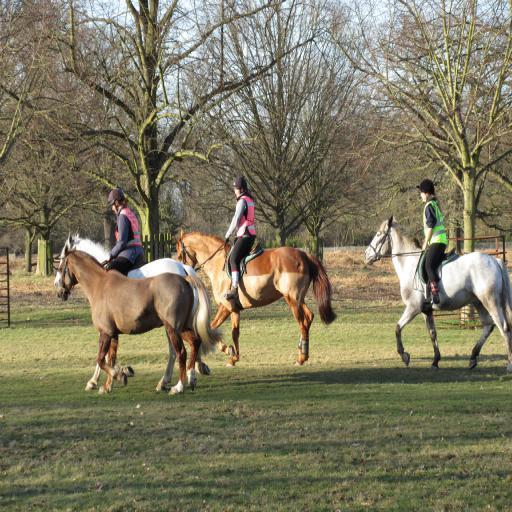horse: (46, 240, 224, 392), (54, 246, 224, 394), (168, 230, 339, 368), (360, 219, 512, 372)
